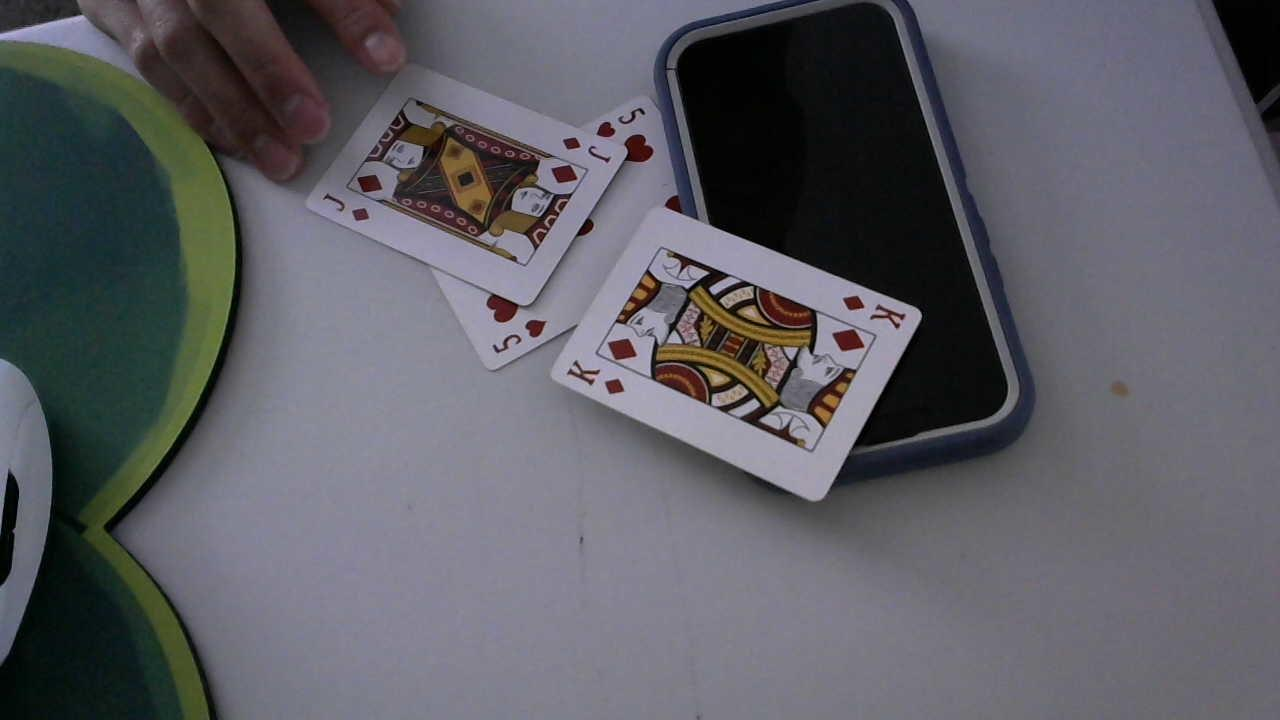5H: (489, 318, 549, 358), (594, 104, 651, 137)
JD: (560, 132, 614, 167), (322, 191, 373, 225)
KD: (838, 293, 909, 335), (563, 357, 630, 395)
